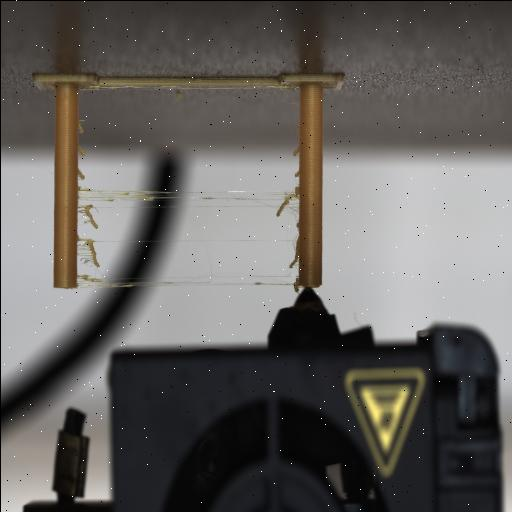stringing: (76, 238, 99, 268), (275, 191, 297, 217), (76, 204, 98, 230), (200, 248, 212, 284), (91, 266, 111, 282), (278, 92, 298, 106), (288, 246, 298, 268), (76, 166, 84, 180), (76, 145, 84, 157), (77, 120, 83, 133), (292, 146, 298, 156)
